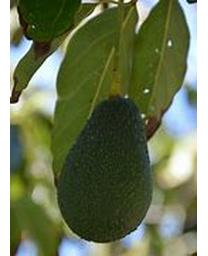avocado: (55, 94, 154, 244)
